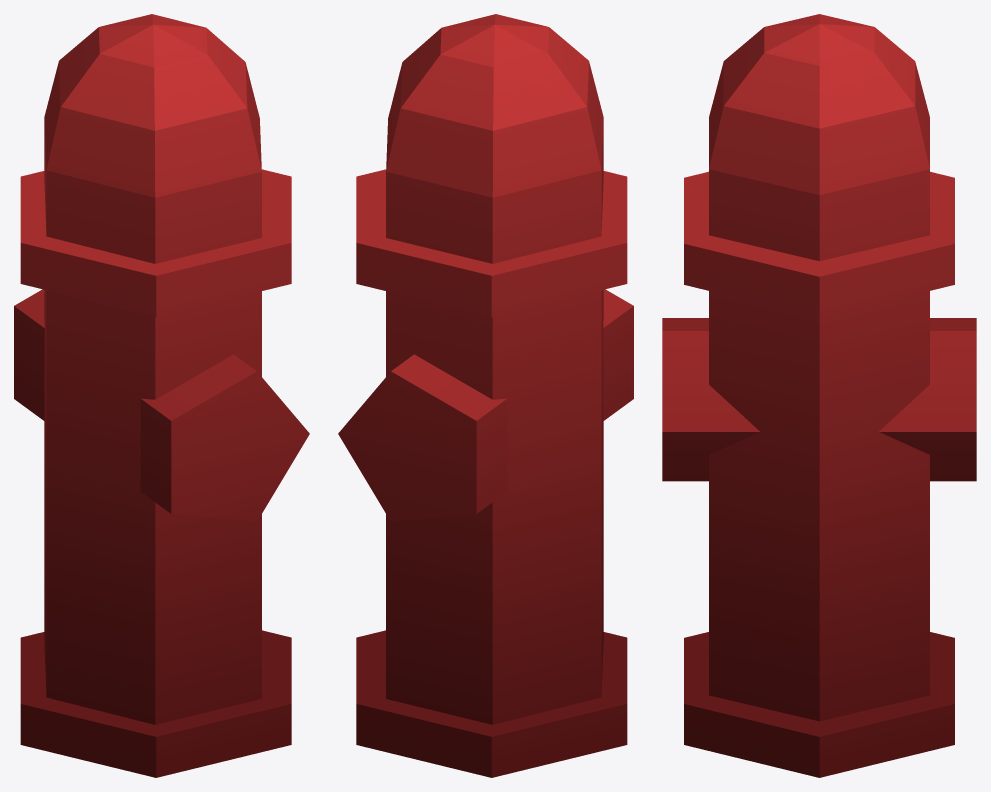
The model's file is fireh.fbx.
The picture shows the model from 3 angles, left to right: view 1: azimuth 30°, elevation 25°; view 2: azimuth 150°, elevation 25°; view 3: azimuth 270°, elevation 25°; orthographic projection.
Parts seen in each view (by area): view 1: polySurface7; view 2: polySurface7; view 3: polySurface7.
Part boxes in pixels (x1=…): polySurface7: x1=14, y1=14, x2=309, y2=777; polySurface7: x1=338, y1=14, x2=633, y2=777; polySurface7: x1=662, y1=14, x2=976, y2=777.
Bounding box in the file's own units: 3.27 × 7.93 × 3.29.
Materials: 1 (1 with a texture image).
